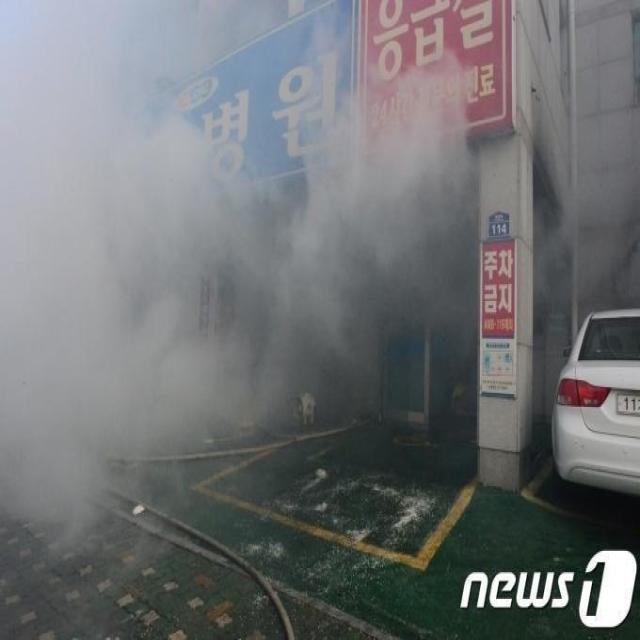Smoke: (1, 1, 479, 558), (532, 126, 640, 316)
